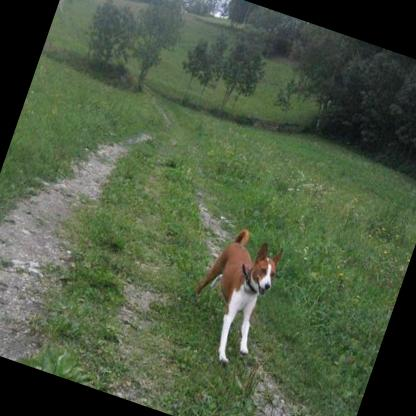basenji: (172, 216, 288, 372)
